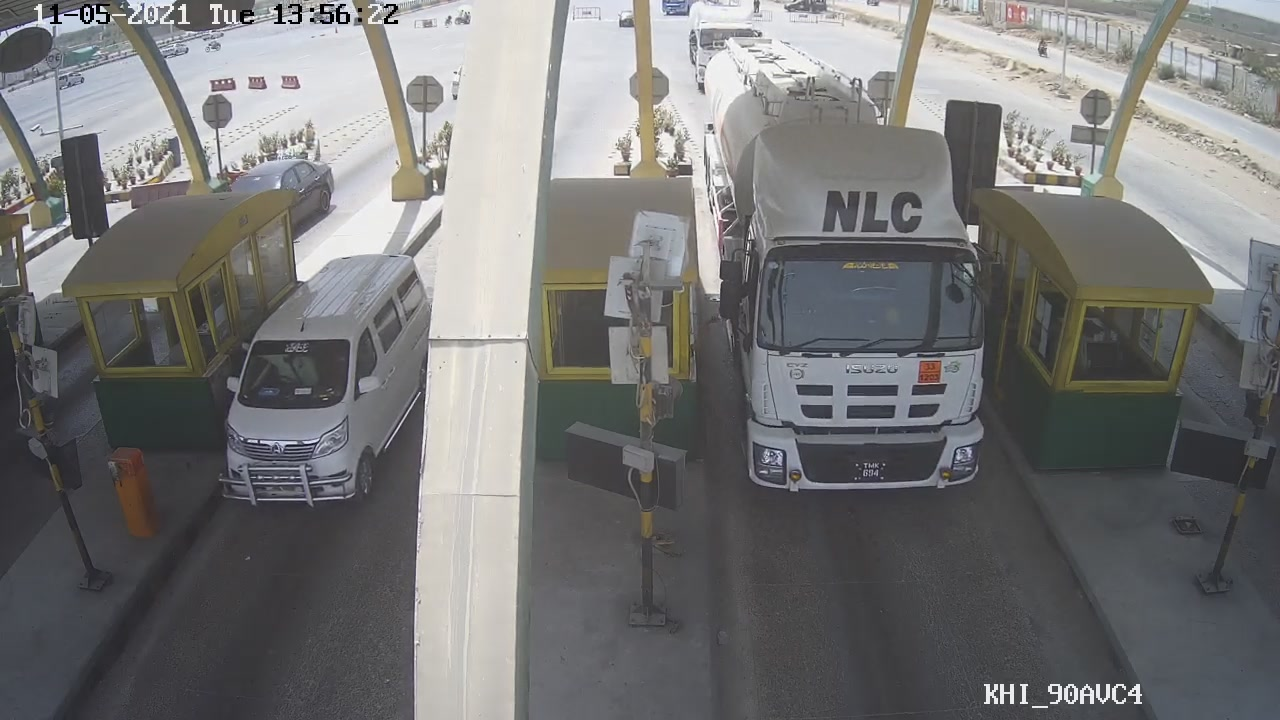F6: (693, 35, 993, 500)
